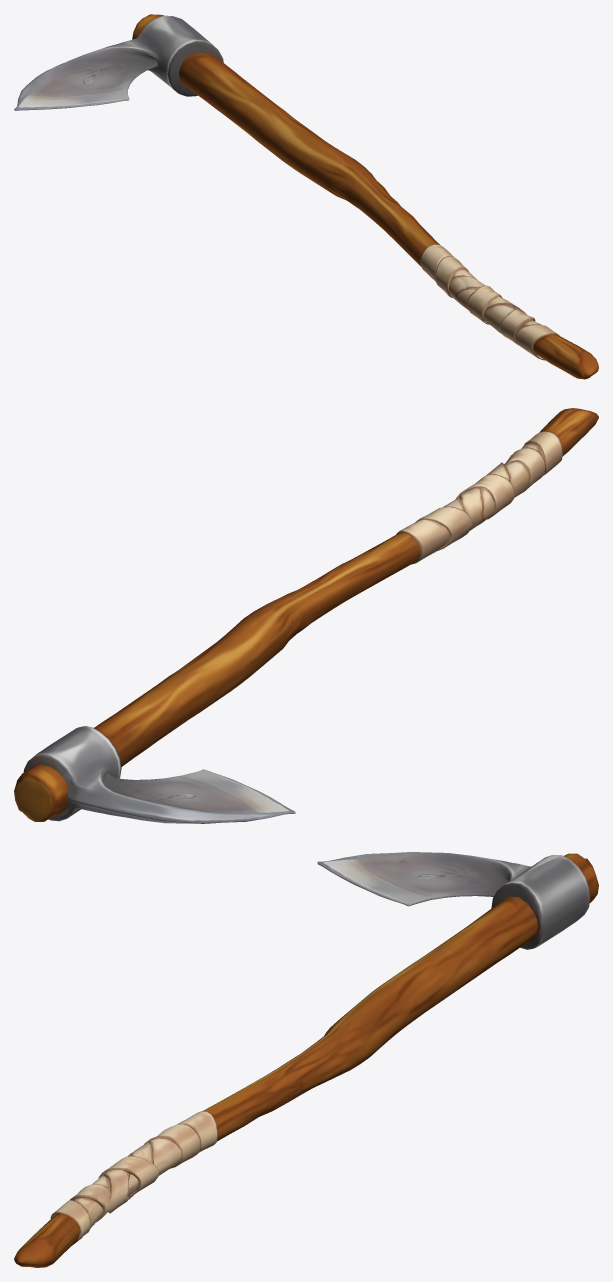
Rendered from Tool_Hoe_Stone.fbx.
3 views of the same model, one above another, from view 1: azimuth 30°, elevation 25°; view 2: azimuth 150°, elevation 25°; view 3: azimuth 330°, elevation 25° (orthographic). The views are drawn at different scales.
Visible parts, largest first — view 1: Tool_Hoe_Stone; view 2: Tool_Hoe_Stone; view 3: Tool_Hoe_Stone.
Part boxes in pixels (x1,y1,x2,y2): Tool_Hoe_Stone: (14, 14, 598, 379); Tool_Hoe_Stone: (14, 408, 598, 823); Tool_Hoe_Stone: (14, 852, 598, 1267).
Size of the model in its own units: 0.1501 by 0.039 by 0.58.
